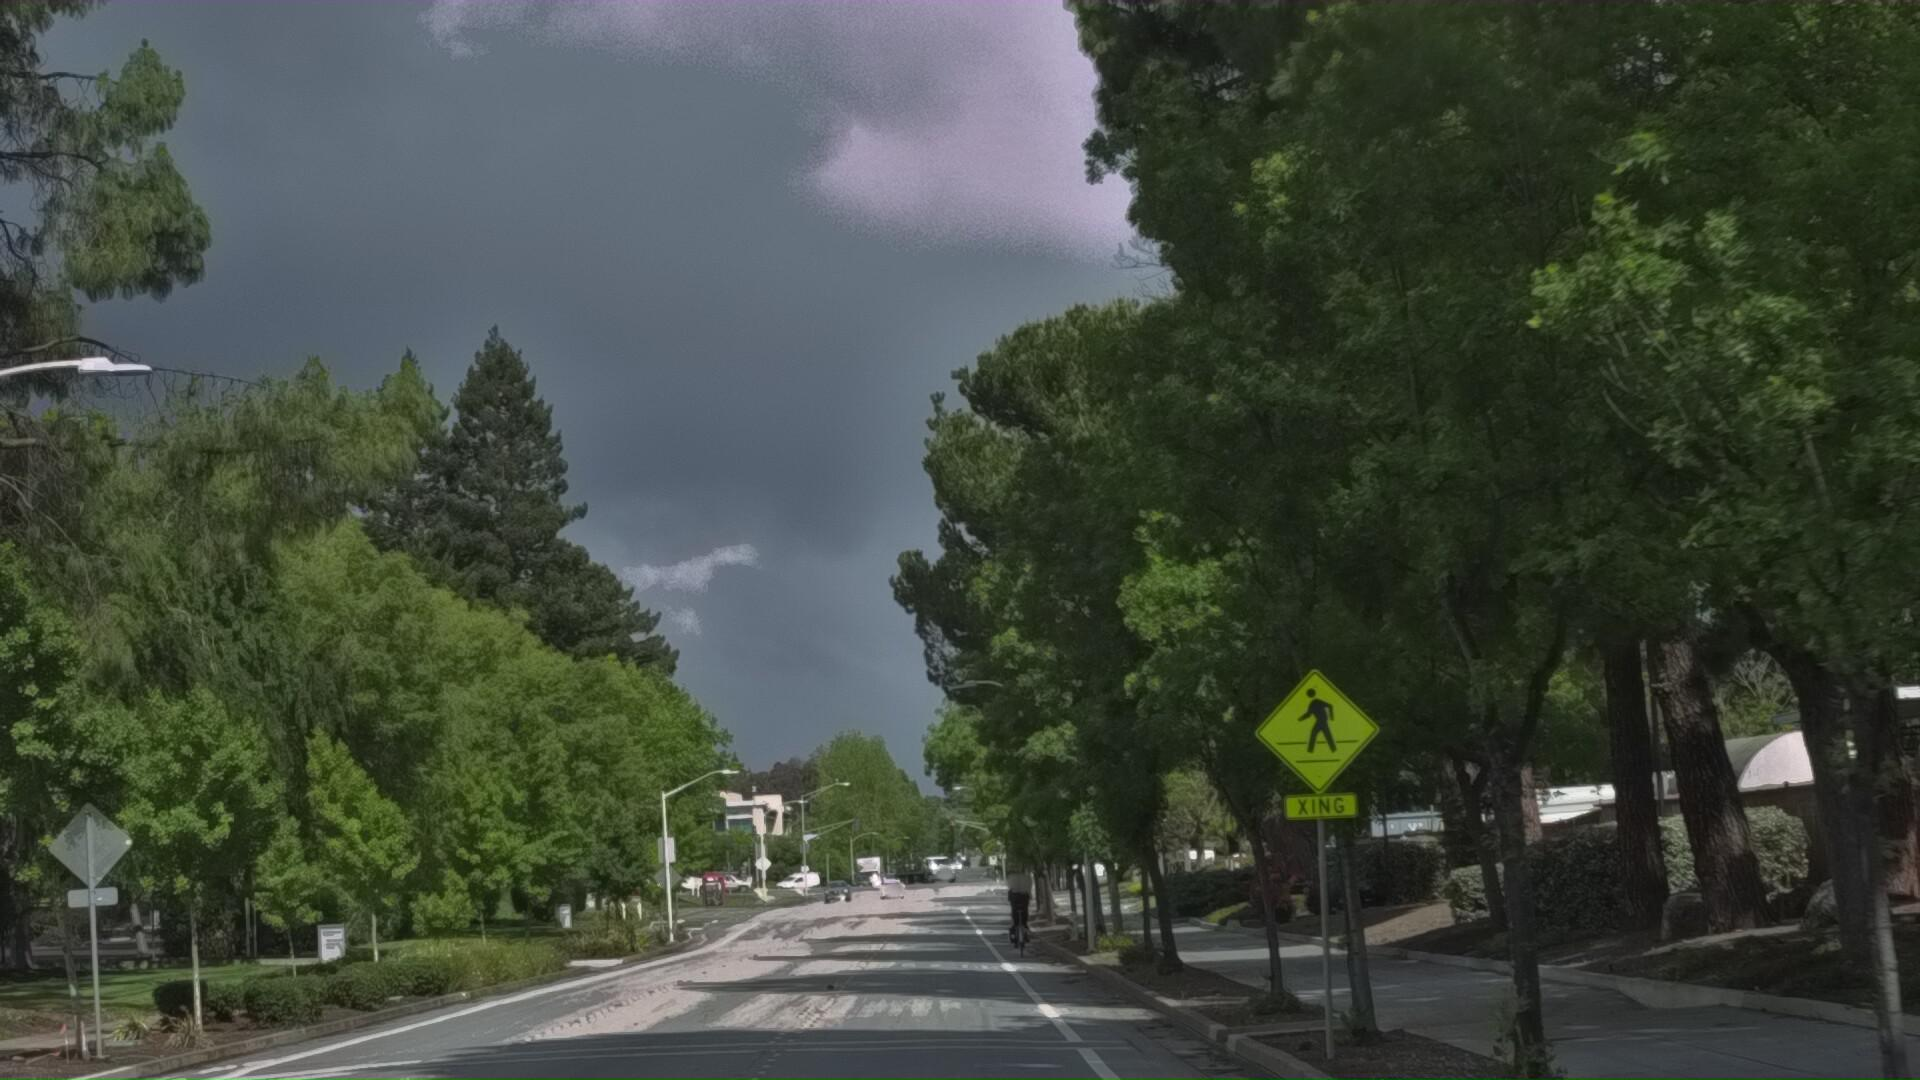bicycle: (1000, 975, 1047, 1064)
